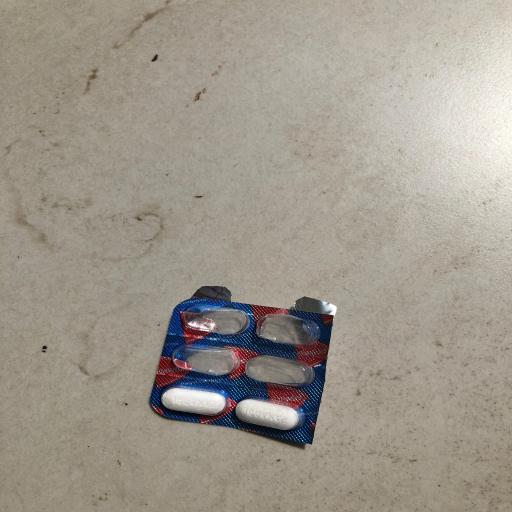waste: (124, 274, 364, 454)
